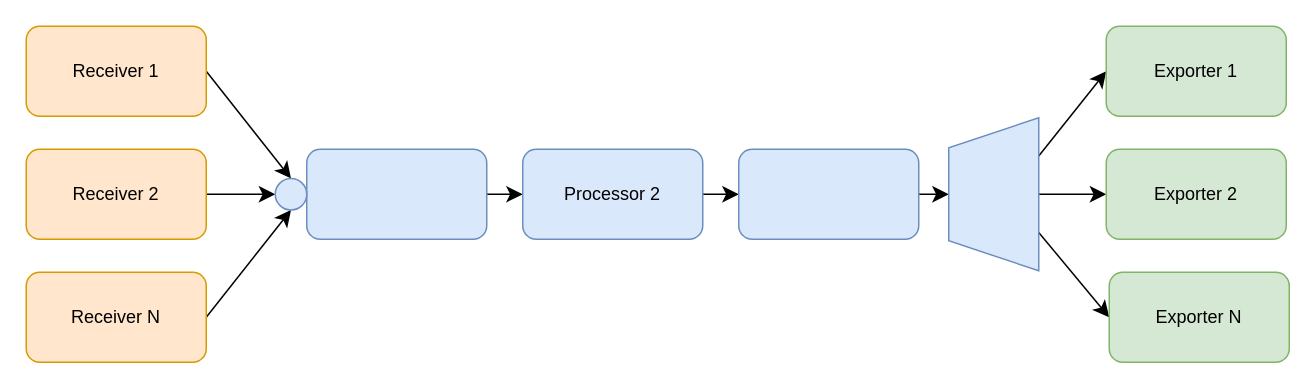
This 1316x389 diagram has some shape labels left out. Here are the shapes that lost their labels. From the top down, the box of each, then its label:
(305, 148, 487, 239): Processor 1
(737, 148, 919, 239): Processor N
(947, 116, 1039, 271): Fan-out
